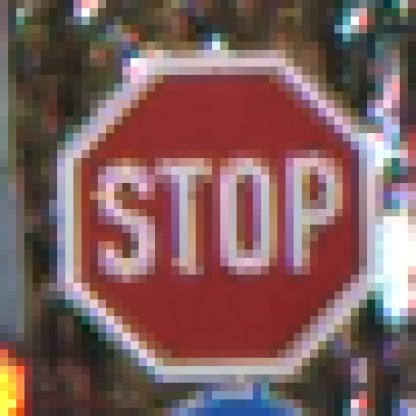stop: (50, 38, 387, 384)
